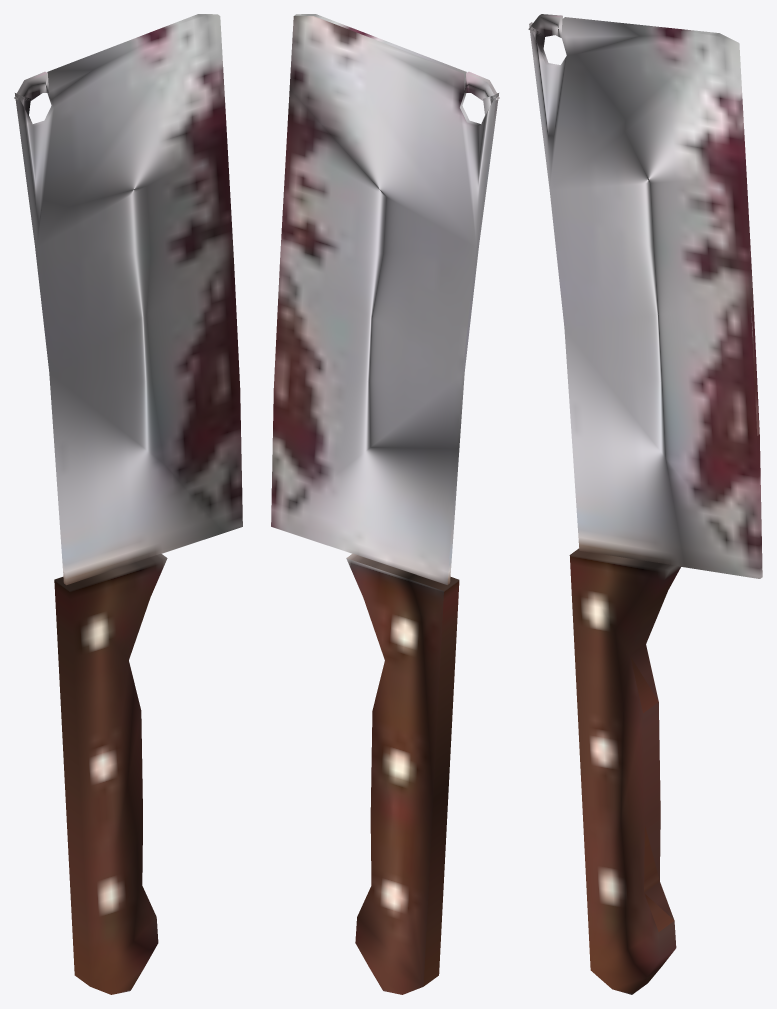
The model's file is cleaver.glb.
3 renders of one model, left to right at view 1: azimuth 30°, elevation 25°; view 2: azimuth 150°, elevation 25°; view 3: azimuth 330°, elevation 25°, orthographic. The views are drawn at different scales.
Visible parts, largest first — view 1: gun_dildo1; view 2: gun_dildo1; view 3: gun_dildo1.
Part boxes in pixels (left/top/right/bottom): gun_dildo1: left=14, top=14, right=242, bottom=994; gun_dildo1: left=271, top=14, right=499, bottom=994; gun_dildo1: left=528, top=14, right=762, bottom=994.
Size of the model in its own units: 0.1336 by 0.5369 by 0.0158.
1 material, 1 textured.
